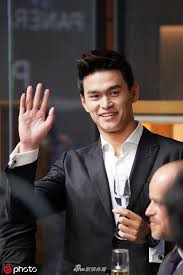hand: (19, 82, 55, 145)
